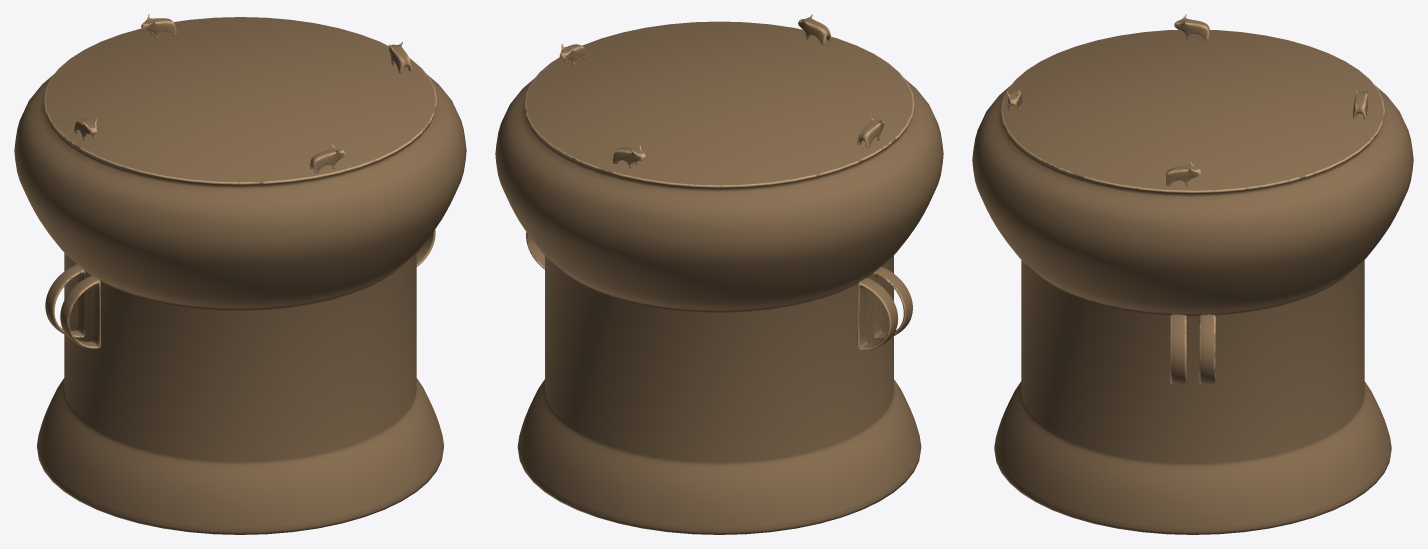
3 views of the same model, side by side, from view 1: azimuth 30°, elevation 25°; view 2: azimuth 150°, elevation 25°; view 3: azimuth 270°, elevation 25° (orthographic). The views are drawn at different scales.
Parts seen in each view (by area): view 1: Sphere001_trong dong_0; view 2: Sphere001_trong dong_0; view 3: Sphere001_trong dong_0.
Boxes of the visible parts, x1,y1,x2,y2 form: Sphere001_trong dong_0: (14, 14, 466, 534); Sphere001_trong dong_0: (495, 14, 943, 534); Sphere001_trong dong_0: (972, 14, 1413, 534).
Size of the model in its own units: 1.67 by 1.51 by 1.67.
1 material, 1 textured.
